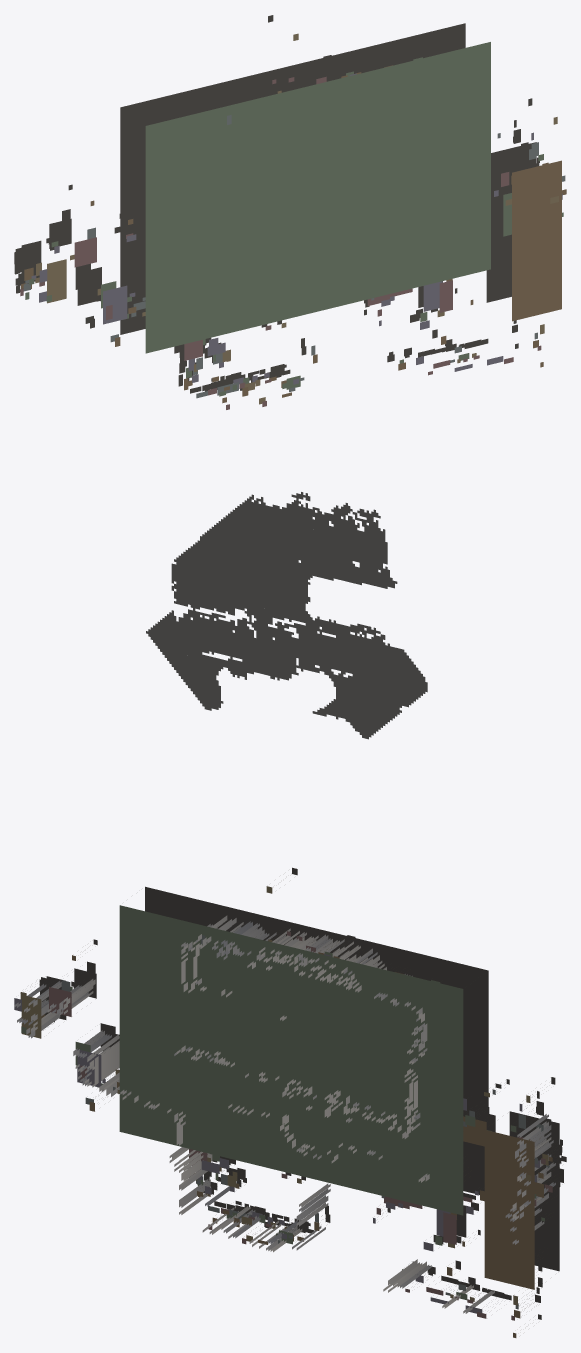
3 views of the same model, one above another, from view 1: azimuth 30°, elevation 25°; view 2: azimuth 150°, elevation 25°; view 3: azimuth 330°, elevation 25° (orthographic).
Size of the model in its own units: 22.47 by 15.95 by 2.16.
